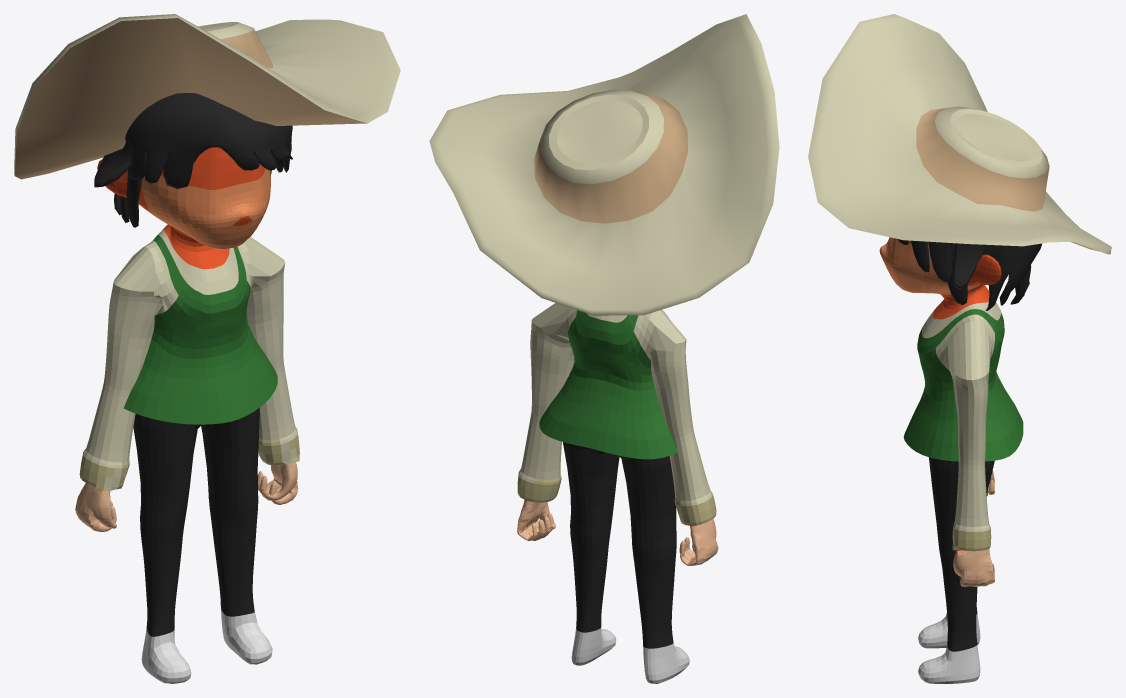
File: fbx_screenshot_v3.fbx
The picture shows the model from 3 angles, left to right: view 1: azimuth 30°, elevation 25°; view 2: azimuth 150°, elevation 25°; view 3: azimuth 270°, elevation 25°; orthographic projection. The views are drawn at different scales.
Visible parts, largest first — view 1: rg_gardener_v1:obj_hat_v1:md_hat1, polySurface1, polySurface2; view 2: rg_gardener_v1:obj_hat_v1:md_hat1, polySurface1, polySurface2; view 3: rg_gardener_v1:obj_hat_v1:md_hat1, polySurface1, polySurface2.
Part boxes in pixels (<box>): rg_gardener_v1:obj_hat_v1:md_hat1: <box>14,14,400,227</box>; polySurface1: <box>75,147,299,532</box>; polySurface2: <box>133,407,272,683</box>; rg_gardener_v1:obj_hat_v1:md_hat1: <box>429,14,779,315</box>; polySurface1: <box>517,303,718,565</box>; polySurface2: <box>563,442,689,683</box>; rg_gardener_v1:obj_hat_v1:md_hat1: <box>808,14,1111,310</box>; polySurface1: <box>879,237,1023,586</box>; polySurface2: <box>918,457,994,683</box>.
Size of the model in its own units: 93.16 by 172 by 77.89.
